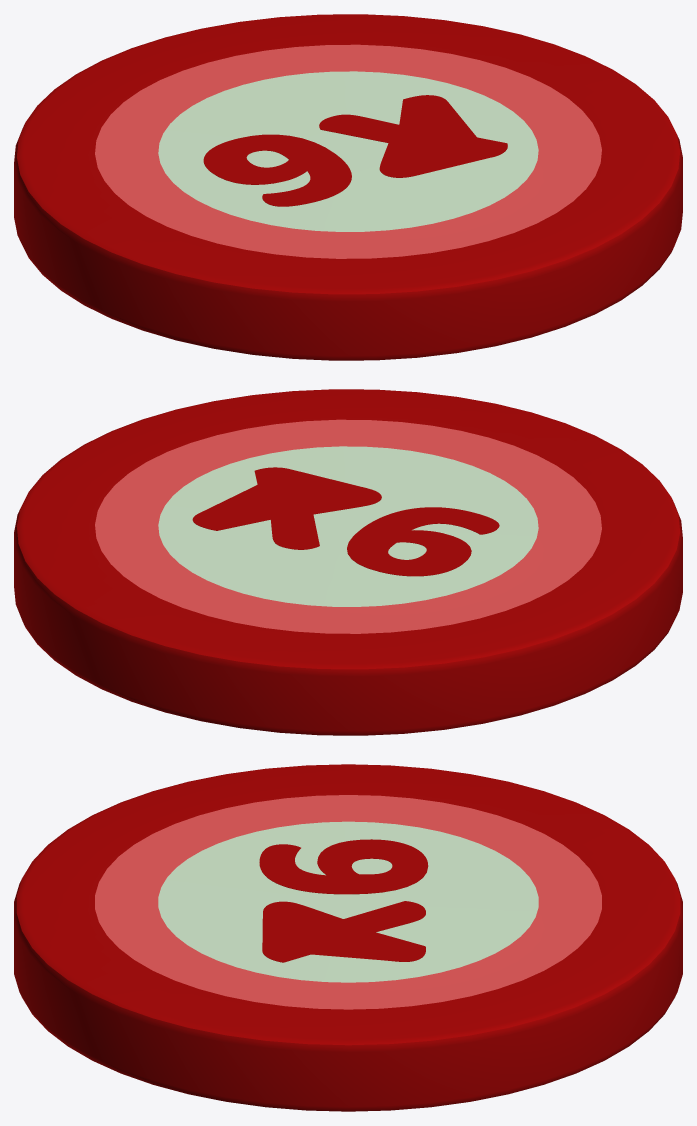
3 views of the same model, one above another, from view 1: azimuth 30°, elevation 25°; view 2: azimuth 150°, elevation 25°; view 3: azimuth 270°, elevation 25° (orthographic).
Visible parts, largest first — view 1: X6; view 2: X6; view 3: X6.
Boxes of the visible parts, box(x1,y1,x2,y2) form: X6: box(14, 14, 682, 360); X6: box(14, 389, 682, 735); X6: box(14, 764, 682, 1111).
Bounding box in the file's own units: 321 × 38.73 × 320.
